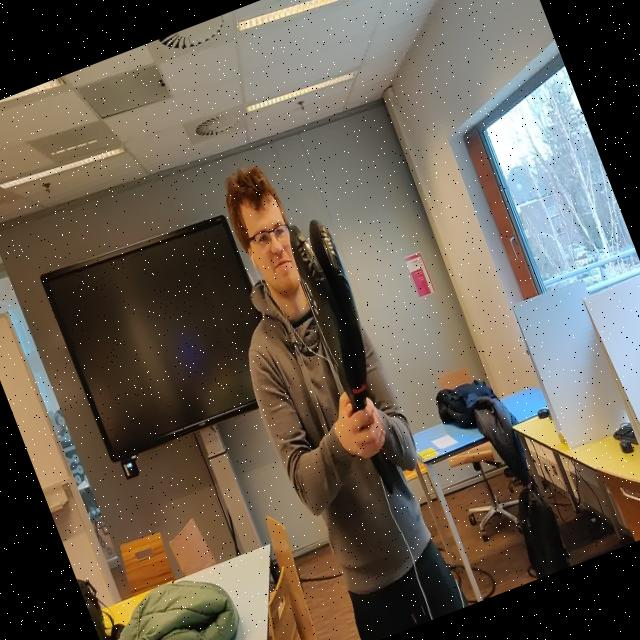paddle: (289, 219, 367, 412)
